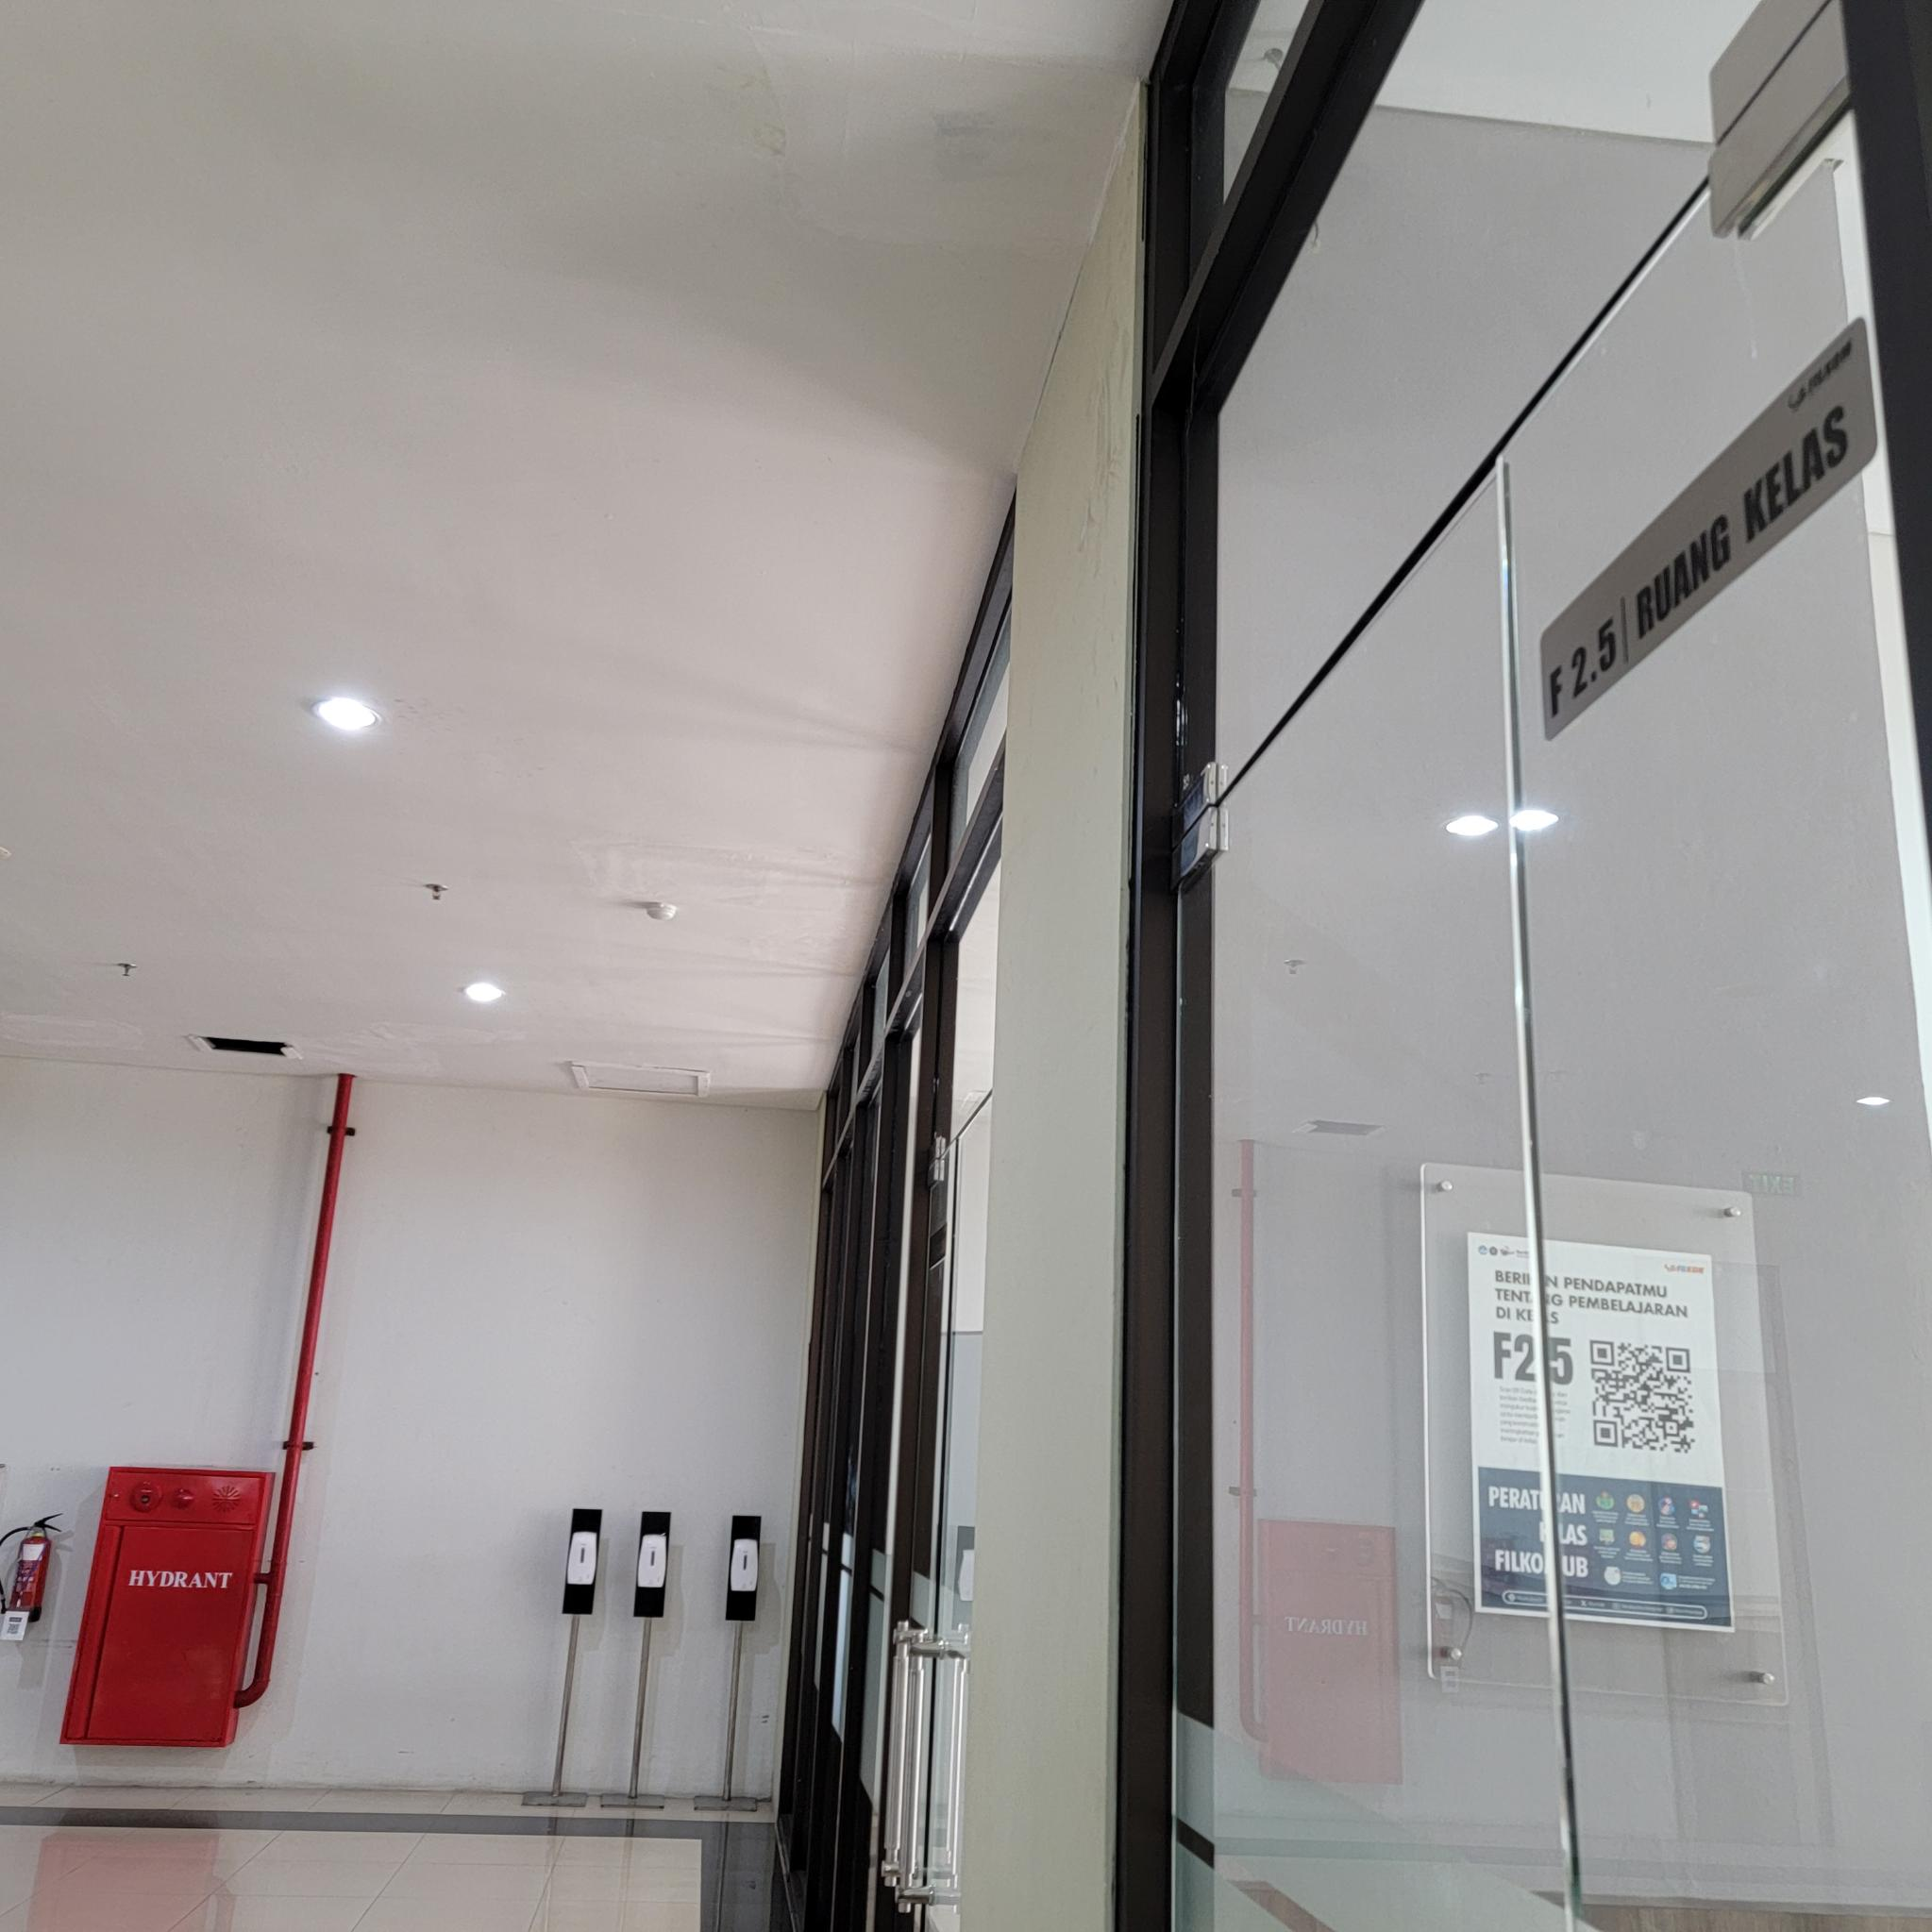plate: (1537, 318, 1881, 743)
